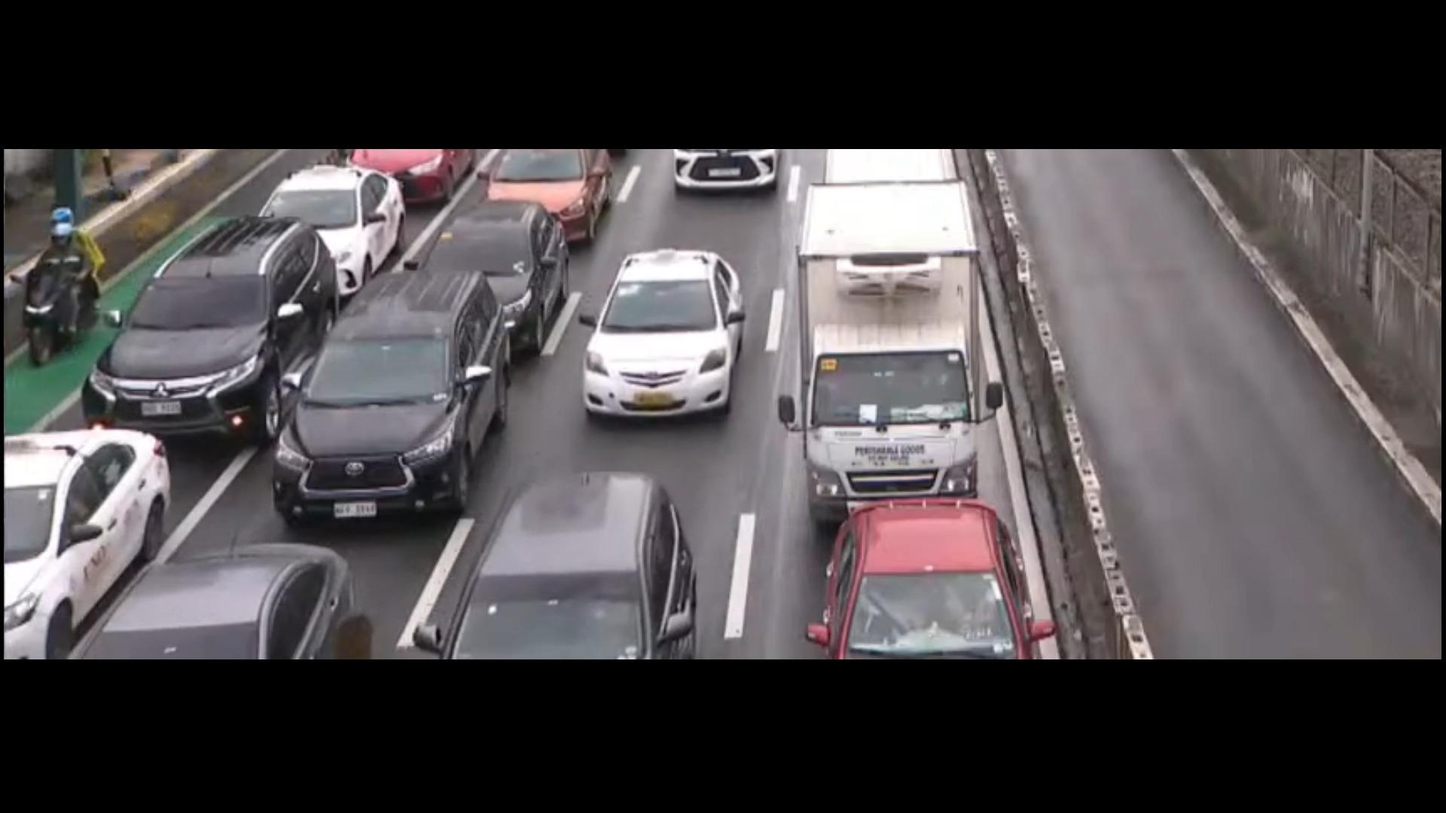Motorcycle: (0, 179, 119, 388)
SUV: (248, 264, 533, 528), (74, 202, 330, 444), (422, 465, 729, 660)
Sedan: (0, 401, 196, 684), (53, 525, 411, 647), (568, 228, 754, 436), (408, 187, 595, 355), (254, 155, 435, 299)
Truck: (745, 164, 1023, 519)
